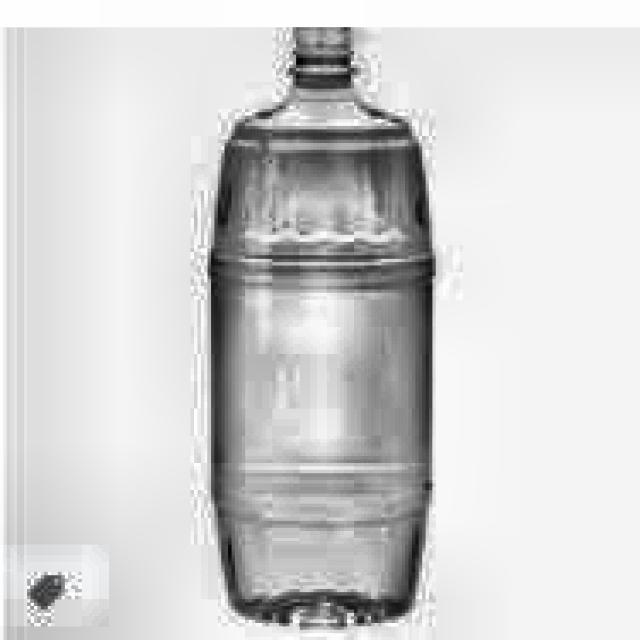plastic bottle: (211, 27, 436, 625)
